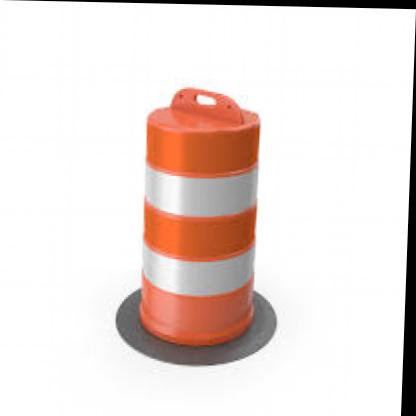obstacle: (128, 82, 271, 349)
